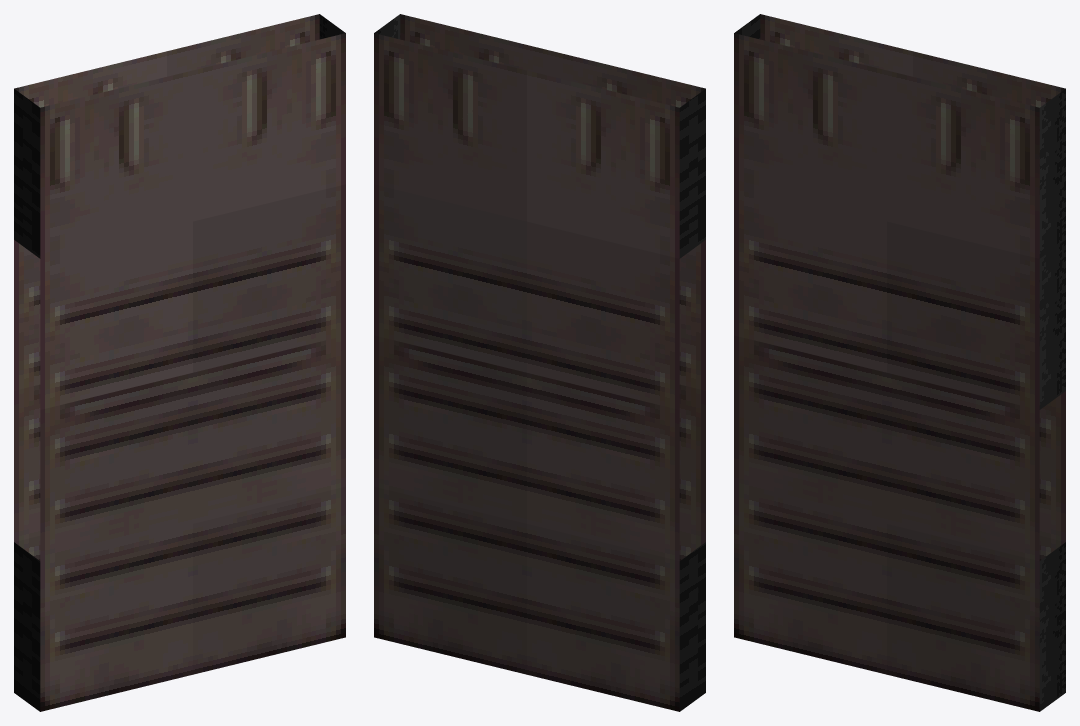
File: brown_sliding_door_2.glb
The picture shows the model from 3 angles, left to right: view 1: azimuth 30°, elevation 25°; view 2: azimuth 150°, elevation 25°; view 3: azimuth 330°, elevation 25°; orthographic projection.
Visible parts, largest first — view 1: Object; view 2: Object; view 3: Object.
Boxes of the visible parts, left/top/right/bottom form: Object: left=14, top=14, right=345, bottom=711; Object: left=374, top=14, right=705, bottom=711; Object: left=734, top=14, right=1065, bottom=711.
Bounding box in the file's own units: 1.31 × 2.47 × 0.1937.
Materials: 16 (16 with a texture image).
